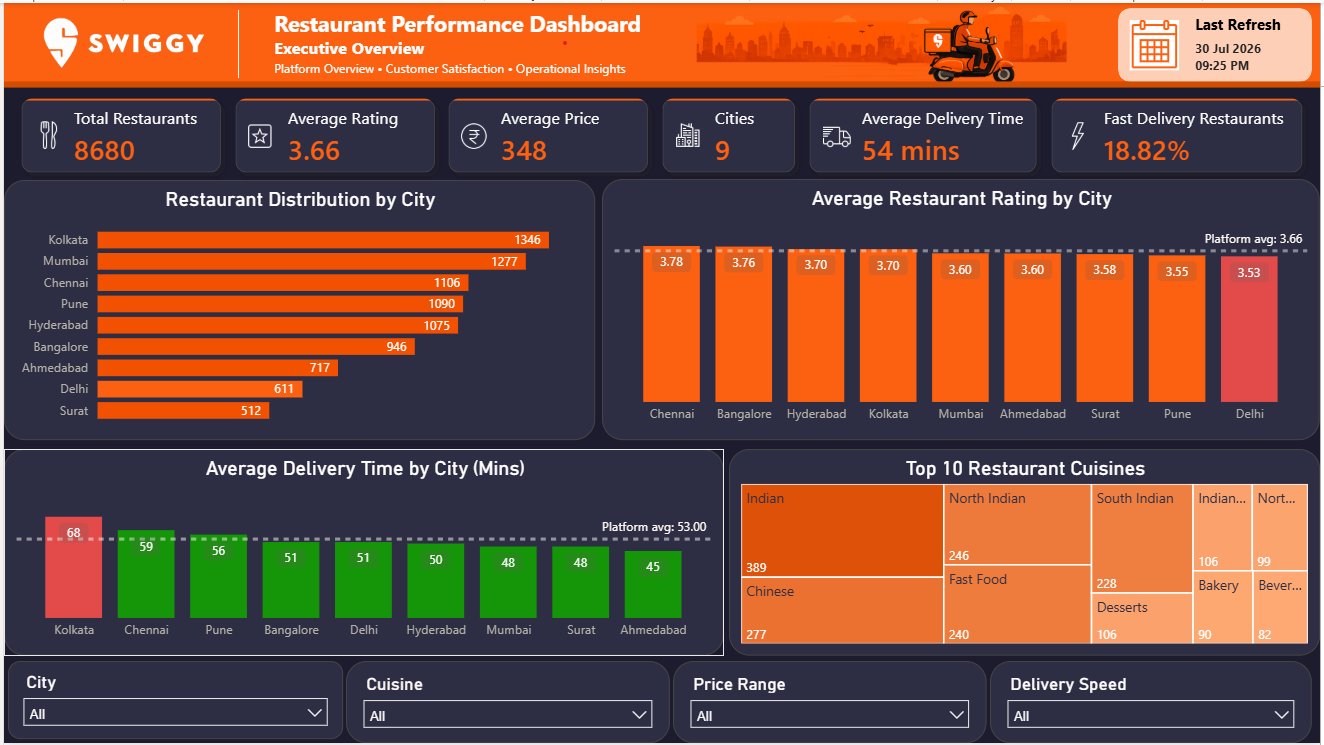

This screenshot's page, from the dashboard's own definition file:
{"tool":"powerbi","page":{"name":"Executive Overview","canvas":[1280,720],"ordinal":0},"visuals":[{"type":"group","id":"g1","title":"Group 1","box":[1083.6,4.9,188.7,72],"z":0,"group":"g2"},{"type":"shape","title":"Last Refresh","box":[1083.6,4.9,188.7,72],"z":0,"group":"g1"},{"type":"cardVisual","title":"Total Resturant ","fields":{"Data":["CountNonNull(swiggy.Restaurant)"]},"box":[0,75.5,228.6,106],"z":0,"group":"g4"},{"type":"cardVisual","title":"Total Resturant ","fields":{"Data":["swiggy.Fast Delivery %"]},"box":[1001.8,75.9,278.2,106],"z":0,"group":"g9"},{"type":"clusteredBarChart","title":"Restaurant Distribution by City","fields":{"Category":["swiggy.City"],"Y":["swiggy.Total Restaurants"]},"box":[0,172.2,574.8,252.9],"z":0},{"type":"image","box":[1068,16.6,102.1,48.6],"z":1000,"group":"g2"},{"type":"image","box":[1031,108,27.2,42.8],"z":1000,"group":"g9"},{"type":"clusteredColumnChart","title":"Average Restaurant Rating by City","fields":{"Category":["swiggy.City"],"Y":["swiggy.Average Rating"]},"box":[581.6,171.2,698.4,253.9],"z":1000},{"type":"textbox","box":[1153.6,4.9,96.3,32.1],"z":2000,"group":"g1"},{"type":"clusteredColumnChart","title":"Average Delivery Time by City (Mins)","fields":{"Category":["swiggy.City"],"Y":["swiggy.Average Delivery Time"]},"box":[0,433.8,700.3,201.3],"z":2000},{"type":"textbox","box":[1153.6,29.2,116.7,47.7],"z":3000,"group":"g1"},{"type":"treemap","title":"Most Common Food-Type Categories","fields":{"Group":["swiggy.Food type"],"Values":["swiggy.Total Restaurants"]},"box":[705.2,433.8,574.8,201.3],"z":3000},{"type":"shape","box":[0,0,1280,79.8],"z":4000},{"type":"slicer","fields":{"Values":["swiggy.City"]},"box":[3.9,640,310,75.9],"z":4000,"group":"g10"},{"type":"slicer","fields":{"Values":["swiggy.Food type"]},"box":[322.3,640,310,80],"z":4000,"group":"g12"},{"type":"image","box":[414.3,0,842.3,79.8],"z":5000},{"type":"slicer","fields":{"Values":["swiggy.Price Category"]},"box":[640.6,640,310,79.8],"z":5000,"group":"g11"},{"type":"group","id":"g2","title":"Group 2","box":[1068,4.9,204.3,72],"z":6000},{"type":"slicer","fields":{"Values":["swiggy.Delivery Category"]},"box":[959,639,310,79.8],"z":6000,"group":"g13"},{"type":"group","id":"g3","title":"Group 3","box":[0,0,674,79.8],"z":7000},{"type":"group","id":"g4","title":"Group 4","box":[0,75.5,228.3,106.2],"z":8000},{"type":"group","id":"g5","title":"Group 5","box":[207.7,75.9,228.6,106],"z":9000},{"type":"group","id":"g6","title":"Group 6","box":[415.7,75.9,228.6,106],"z":10000},{"type":"group","id":"g7","title":"Group 7","box":[623.7,75.9,163.4,106],"z":11000},{"type":"group","id":"g8","title":"Group 8","box":[766.6,75.9,255.8,106],"z":12000},{"type":"group","id":"g9","title":"Group 9","box":[1001.8,75.9,278.2,106],"z":13000},{"type":"image","box":[30.2,106.6,27.2,43.8],"z":13000,"group":"g4"},{"type":"shape","box":[0,59.3,1280,39.9],"z":14000},{"type":"cardVisual","title":"Total Resturant ","fields":{"Data":["swiggy.Average Rating"]},"box":[207.7,75.9,228.6,106],"z":14000,"group":"g5"},{"type":"image","box":[0,0,235.4,79.8],"z":15000,"group":"g3"},{"type":"image","box":[234.9,108,27.2,42.8],"z":15000,"group":"g5"},{"type":"group","id":"g10","title":"Group 10","box":[3.9,635.1,310,80.7],"z":15000},{"type":"textbox","box":[257.8,0,416.3,79.8],"z":16000,"group":"g3"},{"type":"cardVisual","title":"Total Resturant ","fields":{"Data":["swiggy.Average Price"]},"box":[415.7,75.9,228.6,106],"z":16000,"group":"g6"},{"type":"group","id":"g11","title":"Group 11","box":[640.6,637.1,310,82.7],"z":16000},{"type":"image","box":[443.9,108,27.2,42.8],"z":17000,"group":"g6"},{"type":"group","id":"g12","title":"Group 12","box":[322.3,638.1,310,81.9],"z":17000},{"type":"shape","box":[177,6.8,102.1,66.1],"z":17009,"group":"g3"},{"type":"cardVisual","title":"Total Resturant ","fields":{"Data":["Count(swiggy.City)"]},"box":[623.7,75.9,163.4,106],"z":18000,"group":"g7"},{"type":"image","box":[908.1,637.1,23.7,41.8],"z":18000,"group":"g11"},{"type":"group","id":"g13","title":"Group 13","box":[959,637.1,310,81.7],"z":18000},{"type":"image","box":[651.9,107,27.2,43],"z":19000,"group":"g7"},{"type":"image","box":[276.9,635.1,22.2,42.8],"z":19000,"group":"g10"},{"type":"image","box":[592.4,638.1,22.4,41.8],"z":19002,"group":"g12"},{"type":"image","box":[1229.4,637.1,22.4,41.8],"z":19004,"group":"g13"},{"type":"cardVisual","title":"Total Resturant ","fields":{"Data":["swiggy.Average Delivery Time Display"]},"box":[766.6,75.9,255.8,106],"z":20000,"group":"g8"},{"type":"image","box":[796.8,108,27.2,43],"z":21000,"group":"g8"}]}

Visuals, with their boxes in screenshot pixels (x1, y1, x2, y2), scaled from the page's 1280x720 canvas onto the 1324x745 screenshot:
"Group 1" group: bbox=(1121, 5, 1316, 80)
"Last Refresh" shape: bbox=(1121, 5, 1316, 80)
"Total Resturant " cardVisual: bbox=(0, 78, 236, 188)
"Total Resturant " cardVisual: bbox=(1036, 79, 1323, 188)
"Restaurant Distribution by City" clusteredBarChart: bbox=(0, 178, 595, 440)
image: bbox=(1105, 17, 1210, 67)
image: bbox=(1066, 112, 1095, 156)
"Average Restaurant Rating by City" clusteredColumnChart: bbox=(602, 177, 1323, 440)
textbox: bbox=(1193, 5, 1293, 38)
"Average Delivery Time by City (Mins)" clusteredColumnChart: bbox=(0, 449, 724, 657)
textbox: bbox=(1193, 30, 1314, 80)
"Most Common Food-Type Categories" treemap: bbox=(729, 449, 1323, 657)
shape: bbox=(0, 0, 1323, 83)
slicer - swiggy.City: bbox=(4, 662, 325, 741)
slicer - swiggy.Food type: bbox=(333, 662, 654, 744)
image: bbox=(429, 0, 1300, 83)
slicer - swiggy.Price Category: bbox=(663, 662, 983, 744)
"Group 2" group: bbox=(1105, 5, 1316, 80)
slicer - swiggy.Delivery Category: bbox=(992, 661, 1313, 744)
"Group 3" group: bbox=(0, 0, 697, 83)
"Group 4" group: bbox=(0, 78, 236, 188)
"Group 5" group: bbox=(215, 79, 451, 188)
"Group 6" group: bbox=(430, 79, 666, 188)
"Group 7" group: bbox=(645, 79, 814, 188)
"Group 8" group: bbox=(793, 79, 1058, 188)
"Group 9" group: bbox=(1036, 79, 1323, 188)
image: bbox=(31, 110, 59, 156)
shape: bbox=(0, 61, 1323, 103)
"Total Resturant " cardVisual: bbox=(215, 79, 451, 188)
image: bbox=(0, 0, 243, 83)
image: bbox=(243, 112, 271, 156)
"Group 10" group: bbox=(4, 657, 325, 741)
textbox: bbox=(267, 0, 697, 83)
"Total Resturant " cardVisual: bbox=(430, 79, 666, 188)
"Group 11" group: bbox=(663, 659, 983, 744)
image: bbox=(459, 112, 487, 156)
"Group 12" group: bbox=(333, 660, 654, 744)
shape: bbox=(183, 7, 289, 75)
"Total Resturant " cardVisual: bbox=(645, 79, 814, 188)
image: bbox=(939, 659, 964, 702)
"Group 13" group: bbox=(992, 659, 1313, 744)
image: bbox=(674, 111, 702, 155)
image: bbox=(286, 657, 309, 701)
image: bbox=(613, 660, 636, 704)
image: bbox=(1272, 659, 1295, 702)
"Total Resturant " cardVisual: bbox=(793, 79, 1058, 188)
image: bbox=(824, 112, 852, 156)
